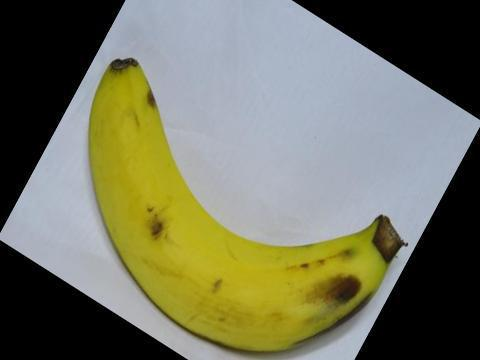freshripe: (78, 46, 415, 359)
